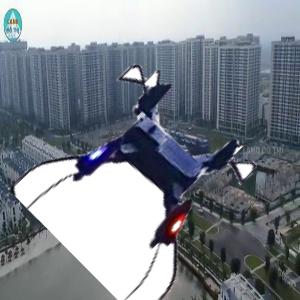drone: (41, 77, 248, 284)
